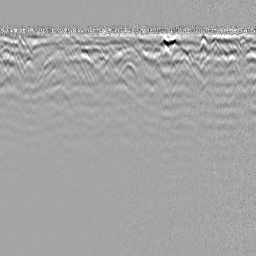cavity: (116, 59, 140, 82)
